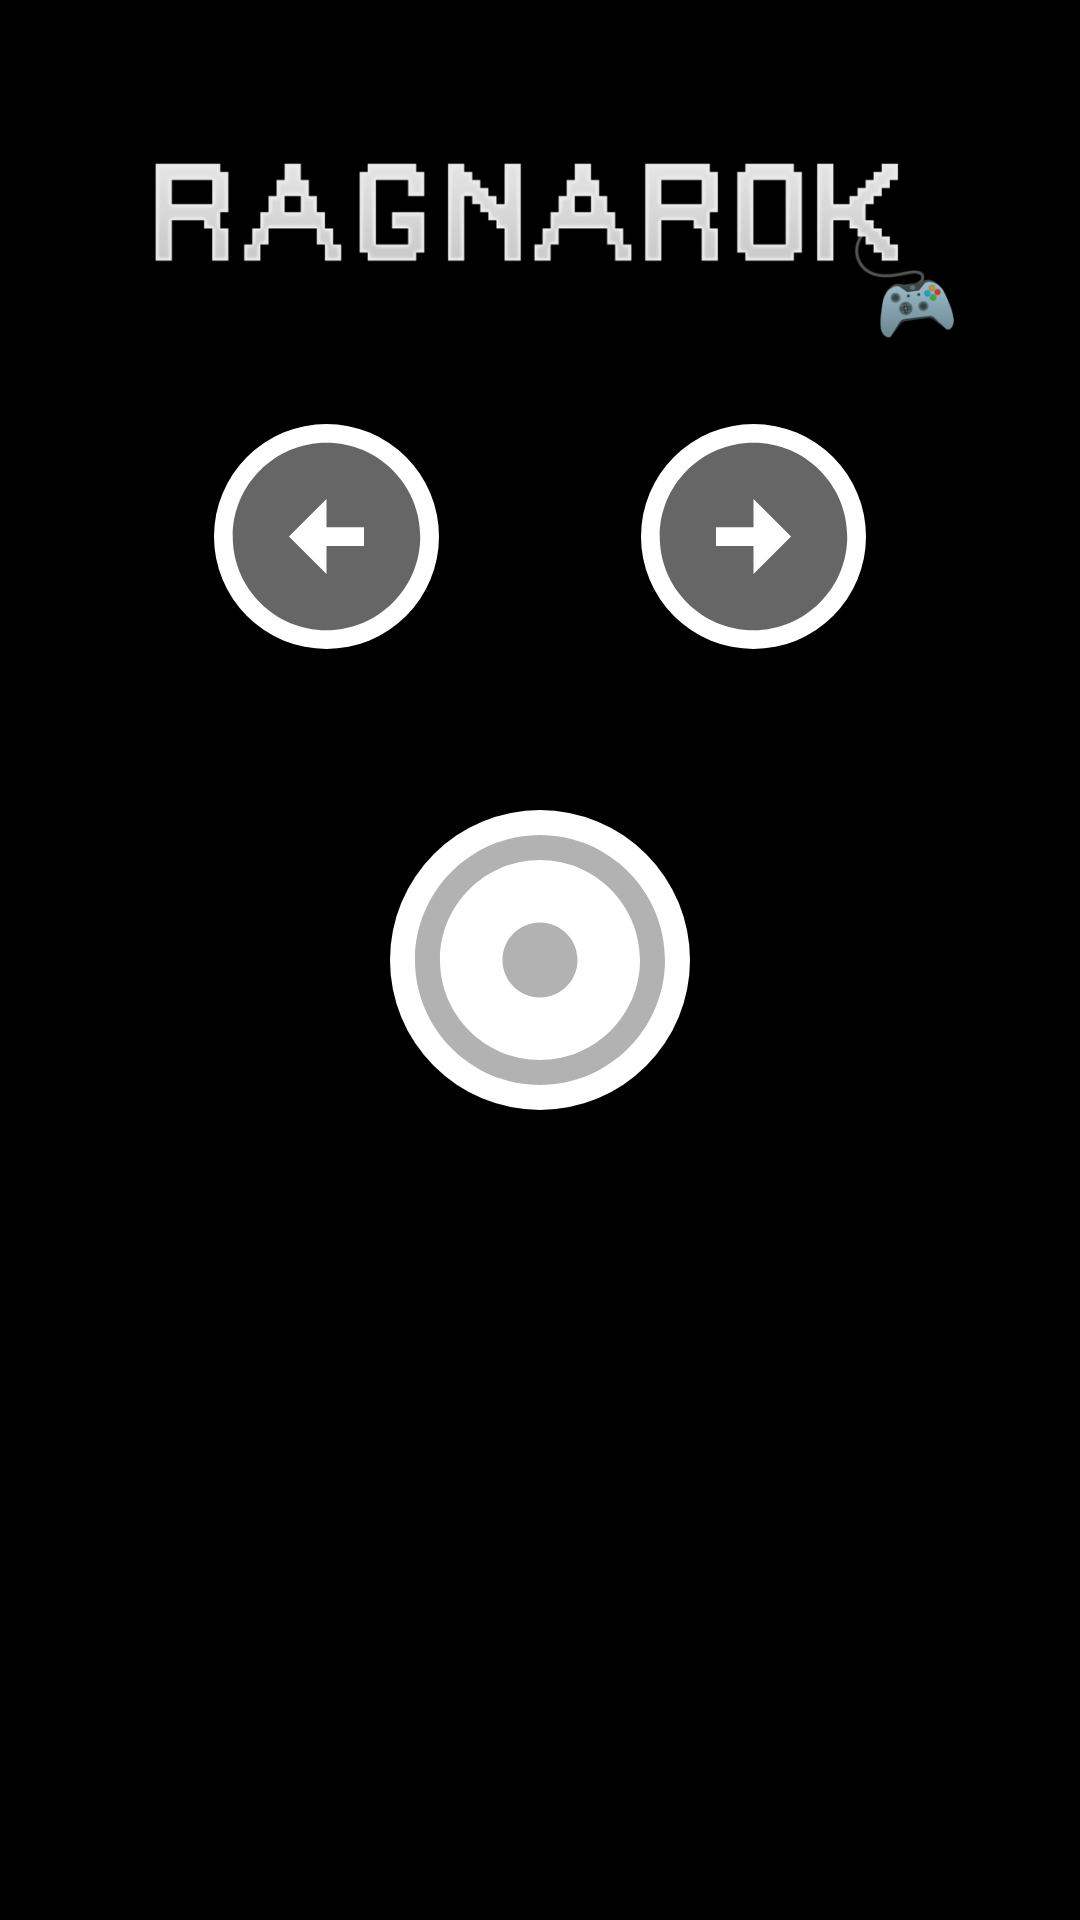

Icons on this 1080 × 1920 Android screen, each with the point to tap as [x,y]:
arrow game left: [326,536]
arrow game right: [753,536]
select: [540,960]
